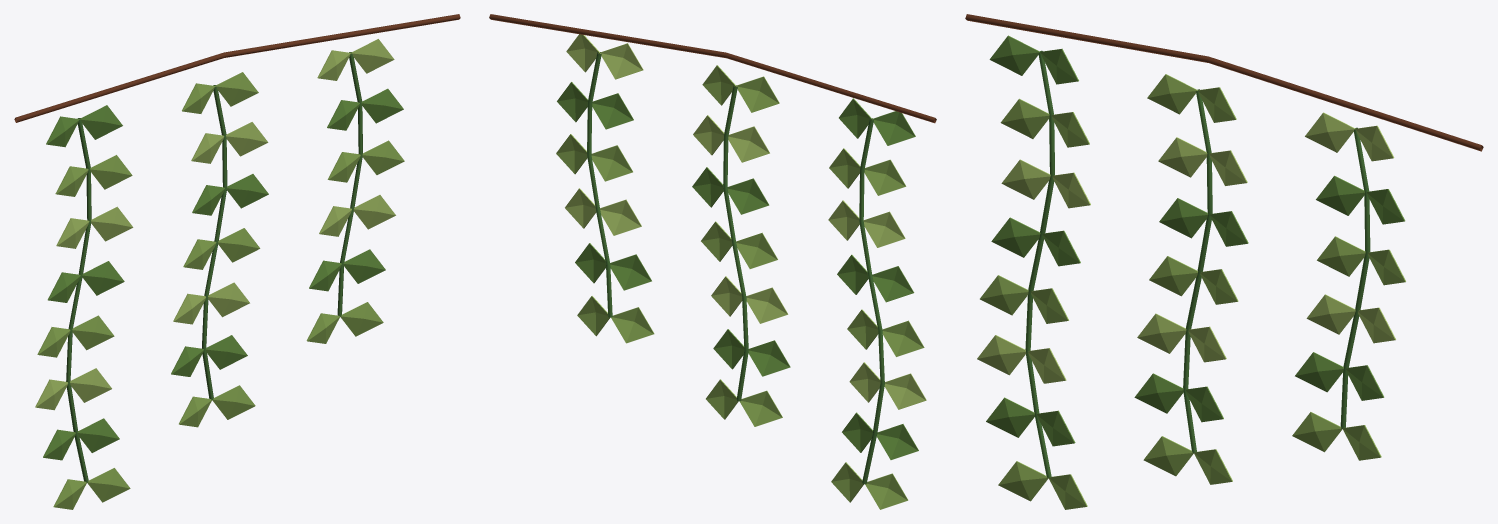
File: wall_vines.fbx
The picture shows the model from 3 angles, left to right: view 1: azimuth 30°, elevation 25°; view 2: azimuth 150°, elevation 25°; view 3: azimuth 330°, elevation 25°; orthographic projection. The views are drawn at different scales.
Parts seen in each view (by area): view 1: wall_vines; view 2: wall_vines; view 3: wall_vines.
Part boxes in pixels (box(x1,y1,x2,y2)): wall_vines: box(14, 14, 460, 509); wall_vines: box(489, 14, 936, 509); wall_vines: box(965, 14, 1483, 509).
Size of the model in its own units: 98.09 by 88.62 by 2.8.
